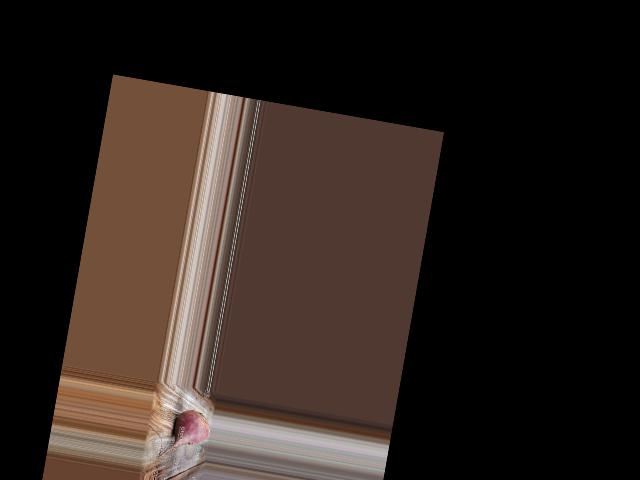beet: (158, 406, 212, 466)
